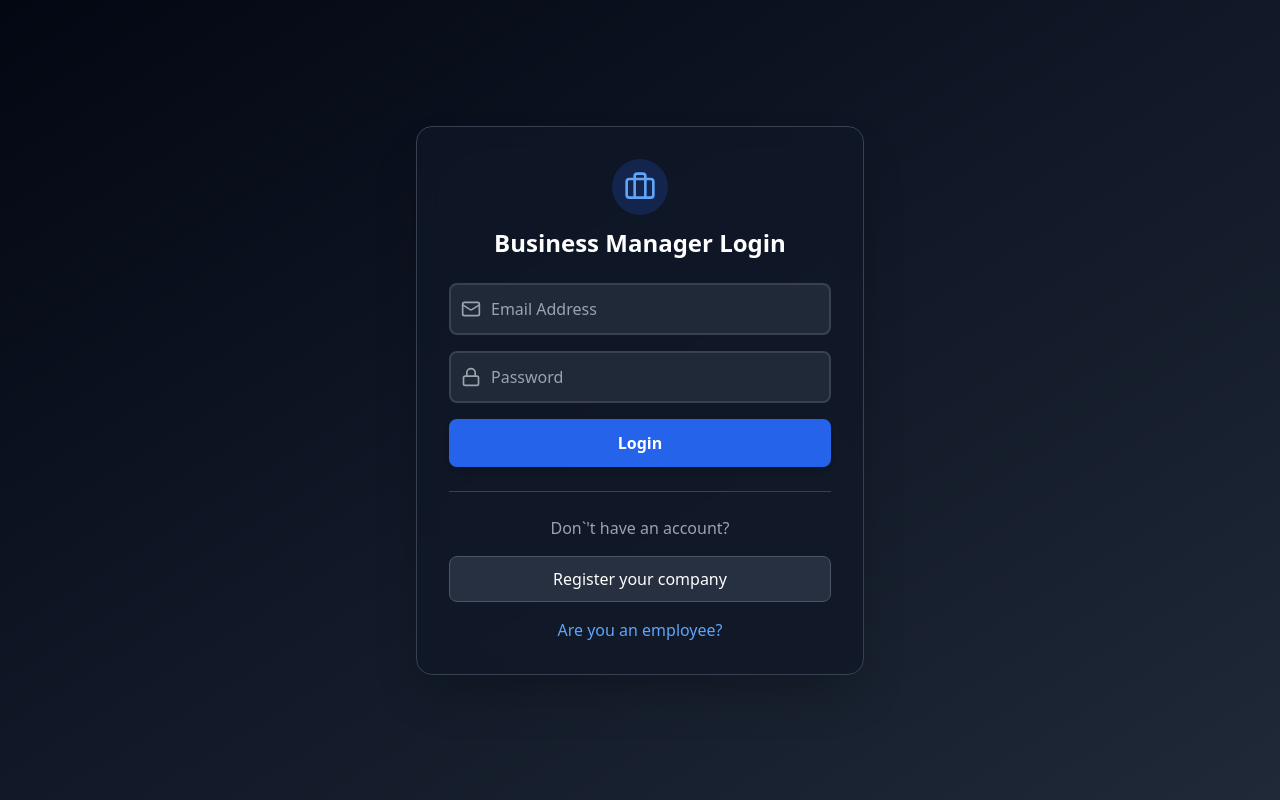
it: BusinessLogin › 8. displays generic error message when no response message available
Type "test@test.com" into the field with placeholder "Email Address".
click(640, 308); type("test@test.com")  # box x1=449 y1=282 x2=831 y2=334
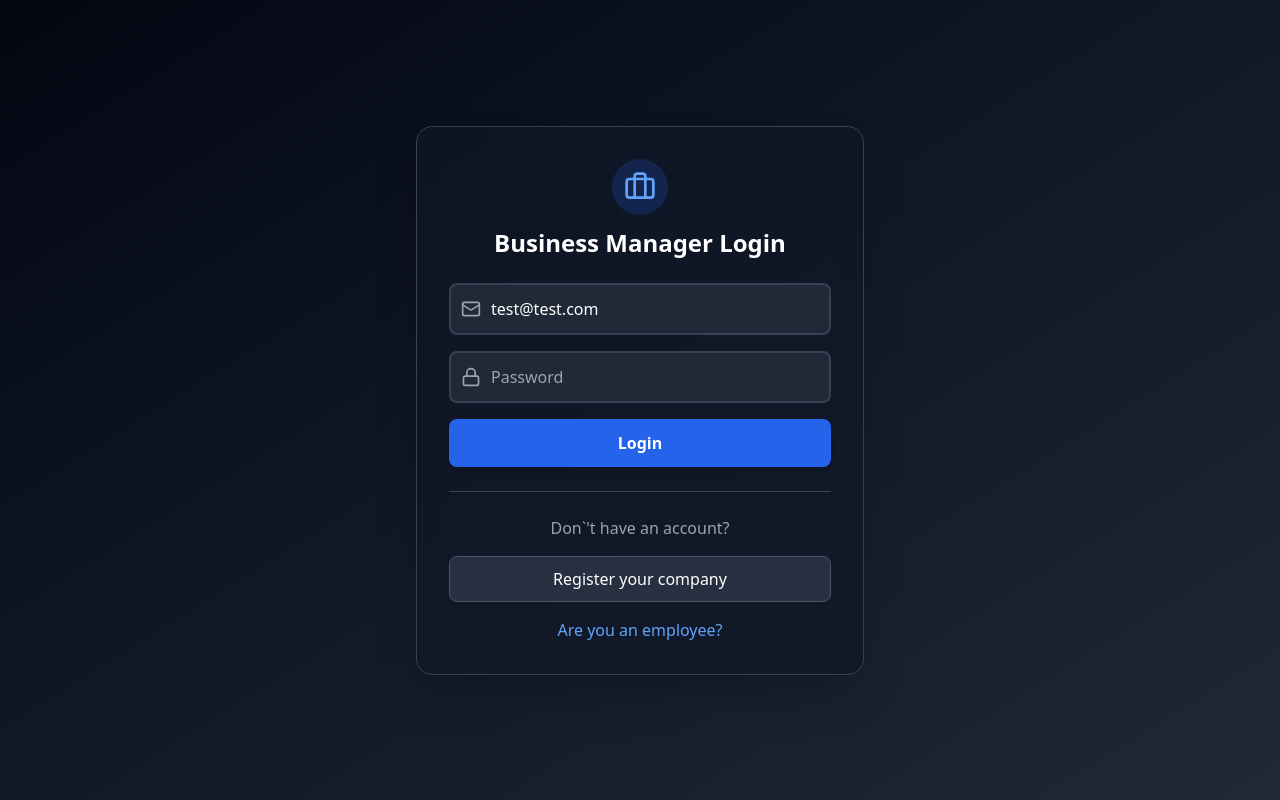
Type "password" into the password field with placeholder "Password".
click(640, 376); type("password")  # box x1=449 y1=350 x2=831 y2=402
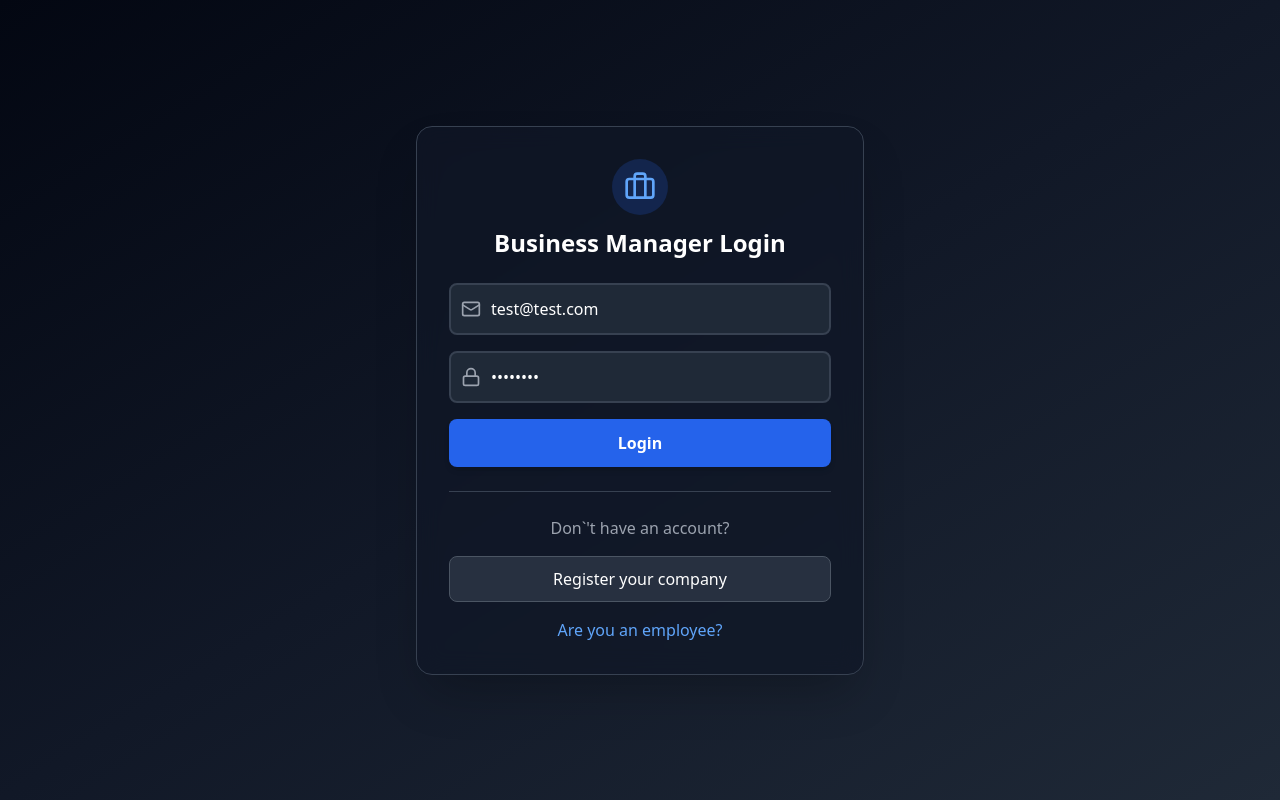
Click the button "Login".
click(640, 442)  # box x1=449 y1=418 x2=831 y2=466
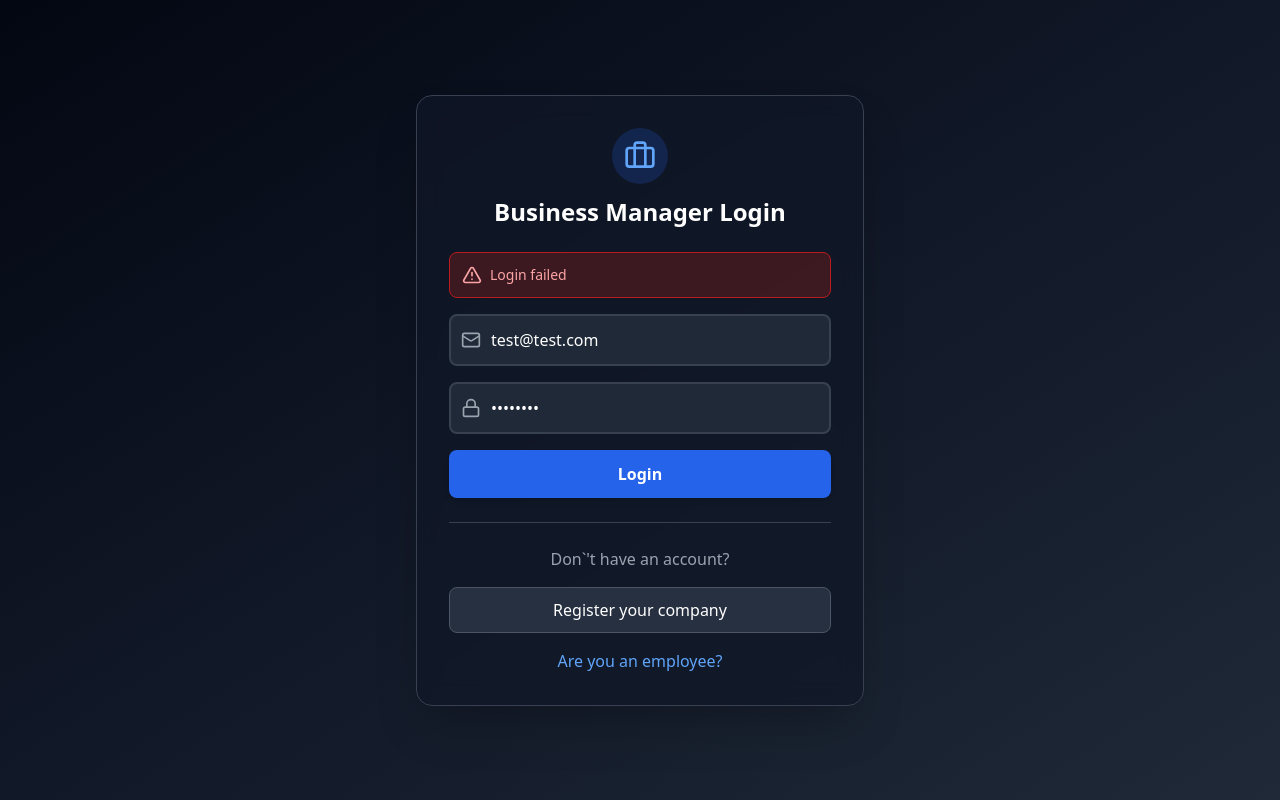
Expected: the text "Login failed" is shown, x1=490 y1=264 x2=567 y2=284
